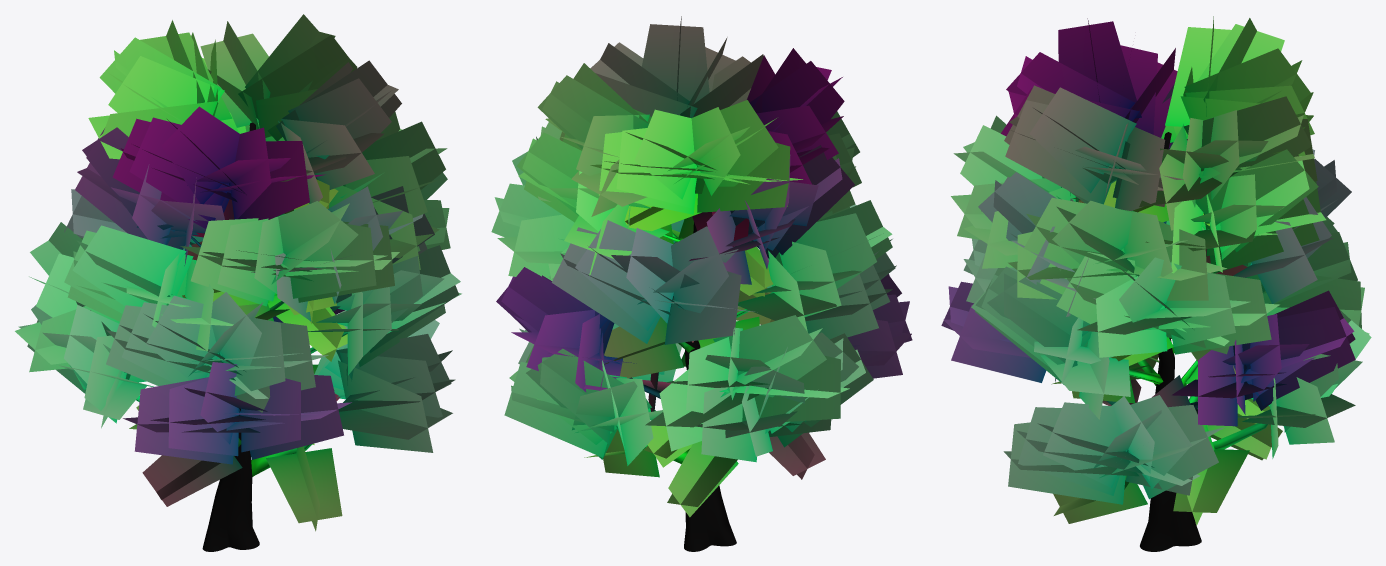
File: Tree_3_4.fbx
The picture shows the model from 3 angles, left to right: view 1: azimuth 30°, elevation 25°; view 2: azimuth 150°, elevation 25°; view 3: azimuth 270°, elevation 25°; orthographic projection. The views are drawn at different scales.
Visible parts, largest first — view 1: _4; view 2: _4; view 3: _4.
Boxes of the visible parts, box(x1,y1,x2,y2) form: _4: box(15, 14, 461, 551); _4: box(491, 16, 912, 551); _4: box(941, 16, 1371, 551).
Bounding box in the file's own units: 1806 × 2246 × 1763.
